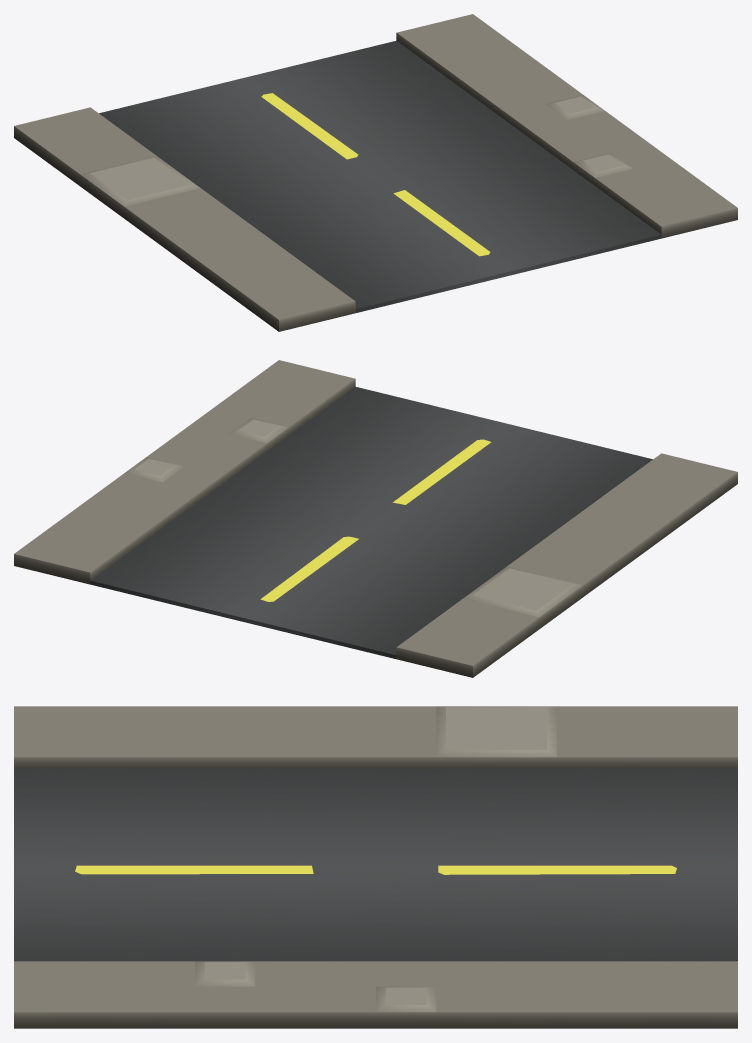
File: Road_1A.fbx
3 views of the same model, one above another, from view 1: azimuth 30°, elevation 25°; view 2: azimuth 150°, elevation 25°; view 3: azimuth 270°, elevation 25° (orthographic). The views are drawn at different scales.
Visible parts, largest first — view 1: Road_1A; view 2: Road_1A; view 3: Road_1A.
Part boxes in pixels (x1,y1,x2,y2): Road_1A: (14,14,737,331); Road_1A: (14,360,737,677); Road_1A: (14,706,737,1028).
Bounding box in the file's own units: 12 × 0.3565 × 12.
